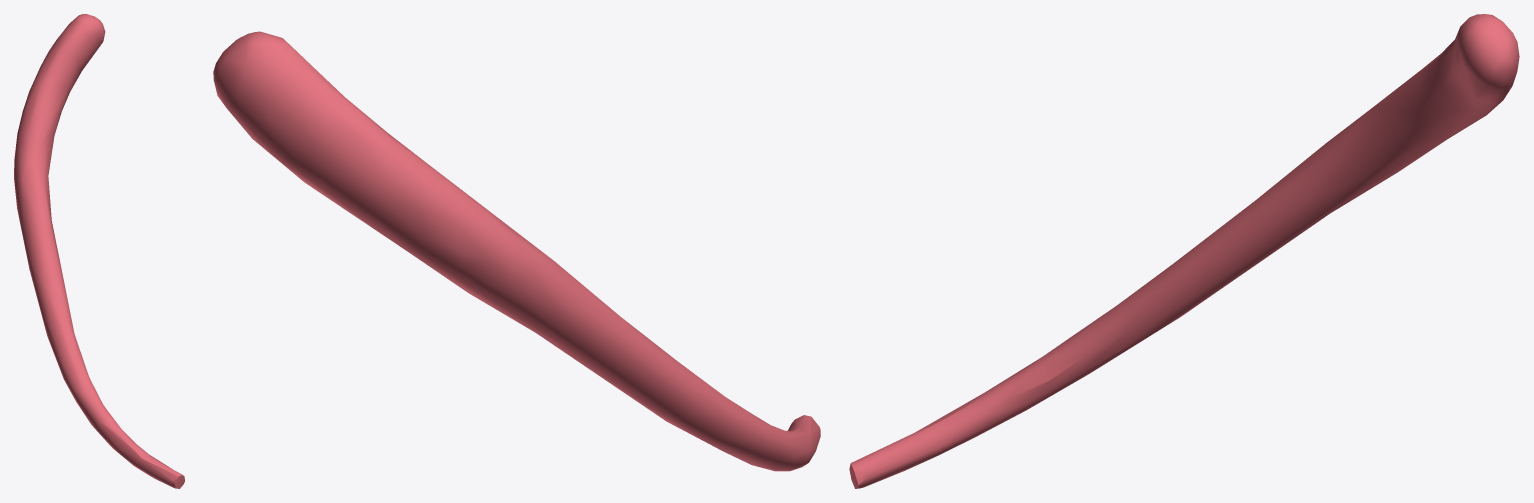
Rendered from fma68983_fj3032.glb.
3 views of the same model, side by side, from view 1: azimuth 30°, elevation 25°; view 2: azimuth 150°, elevation 25°; view 3: azimuth 270°, elevation 25° (orthographic). The views are drawn at different scales.
Visible parts, largest first — view 1: FMA68983_FJ3032; view 2: FMA68983_FJ3032; view 3: FMA68983_FJ3032.
Boxes of the visible parts, x1=… form: FMA68983_FJ3032: x1=14, y1=14, x2=184, y2=488; FMA68983_FJ3032: x1=213, y1=31, x2=820, y2=471; FMA68983_FJ3032: x1=849, y1=14, x2=1519, y2=488.
Bounding box in the file's own units: 0.027 × 0.0538 × 0.0598.
